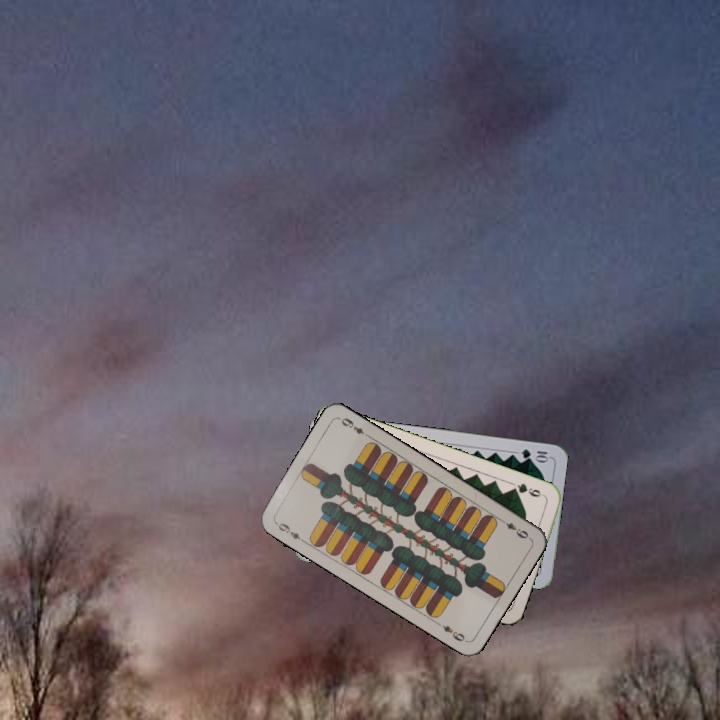E9: (271, 518, 308, 545), (496, 515, 532, 541)
G10: (517, 445, 552, 464)
G9: (507, 479, 548, 500)
